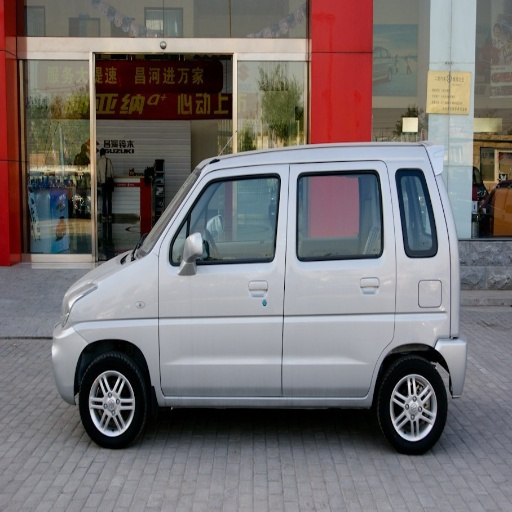trunk: (403, 260, 460, 375)
